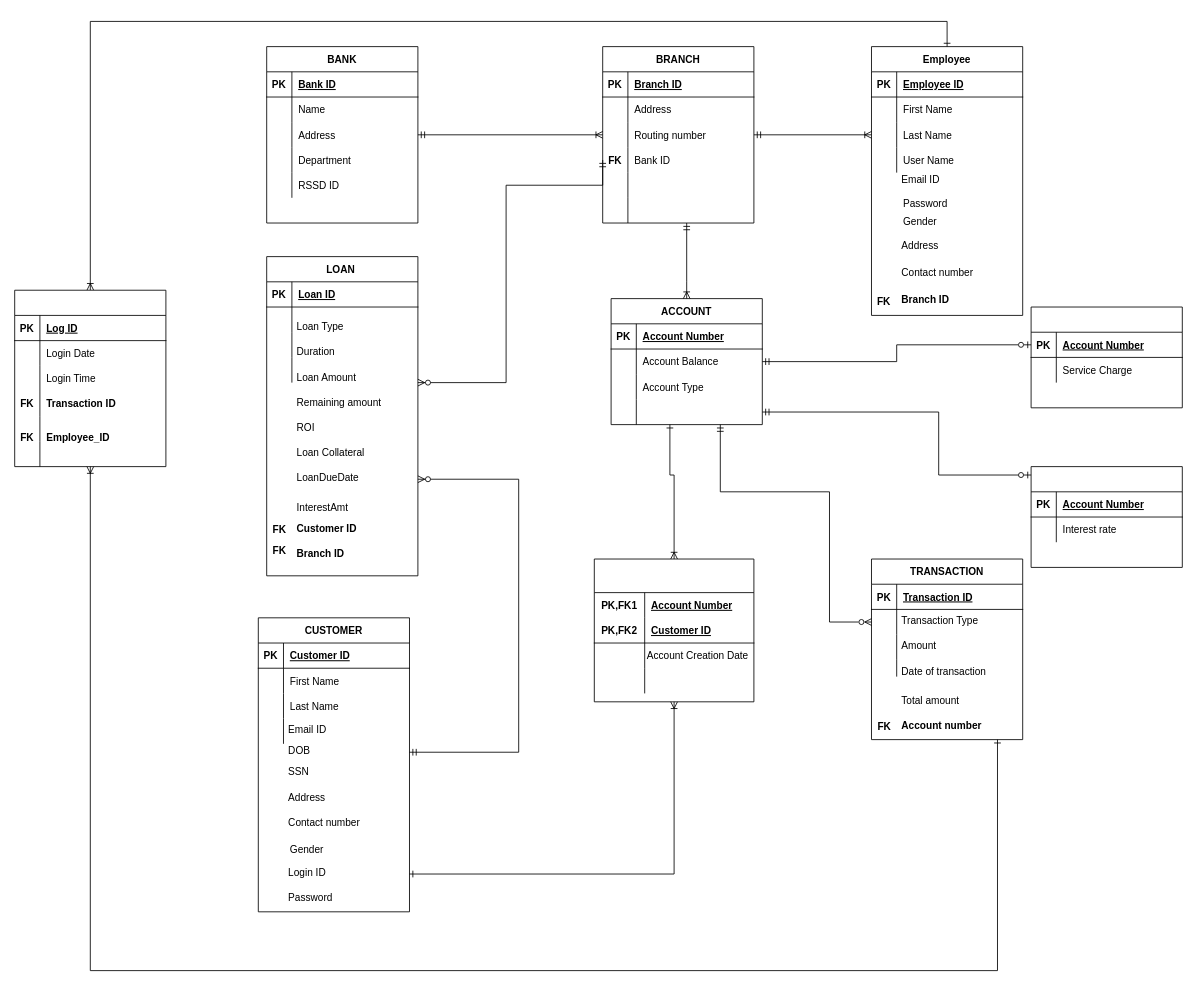
Image size: 1197x993. Some labels were removed from this diagram. The box of each missing label's shape, as (x1, y1, x2, y2) in pixels:
CHECKING: (1030, 306, 1182, 408)
HELD BY: (593, 558, 754, 702)
LOGS: (14, 289, 166, 467)
SAVINGS: (1030, 466, 1182, 567)
